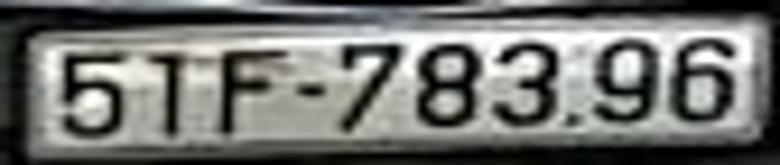-: (297, 80, 326, 99)
.: (564, 112, 577, 127)
1: (149, 52, 180, 133)
3: (495, 42, 558, 127)
5: (59, 52, 123, 135)
6: (672, 39, 736, 119)
7: (341, 44, 397, 130)
8: (415, 42, 481, 124)
9: (594, 38, 656, 122)
F: (218, 47, 287, 138)
